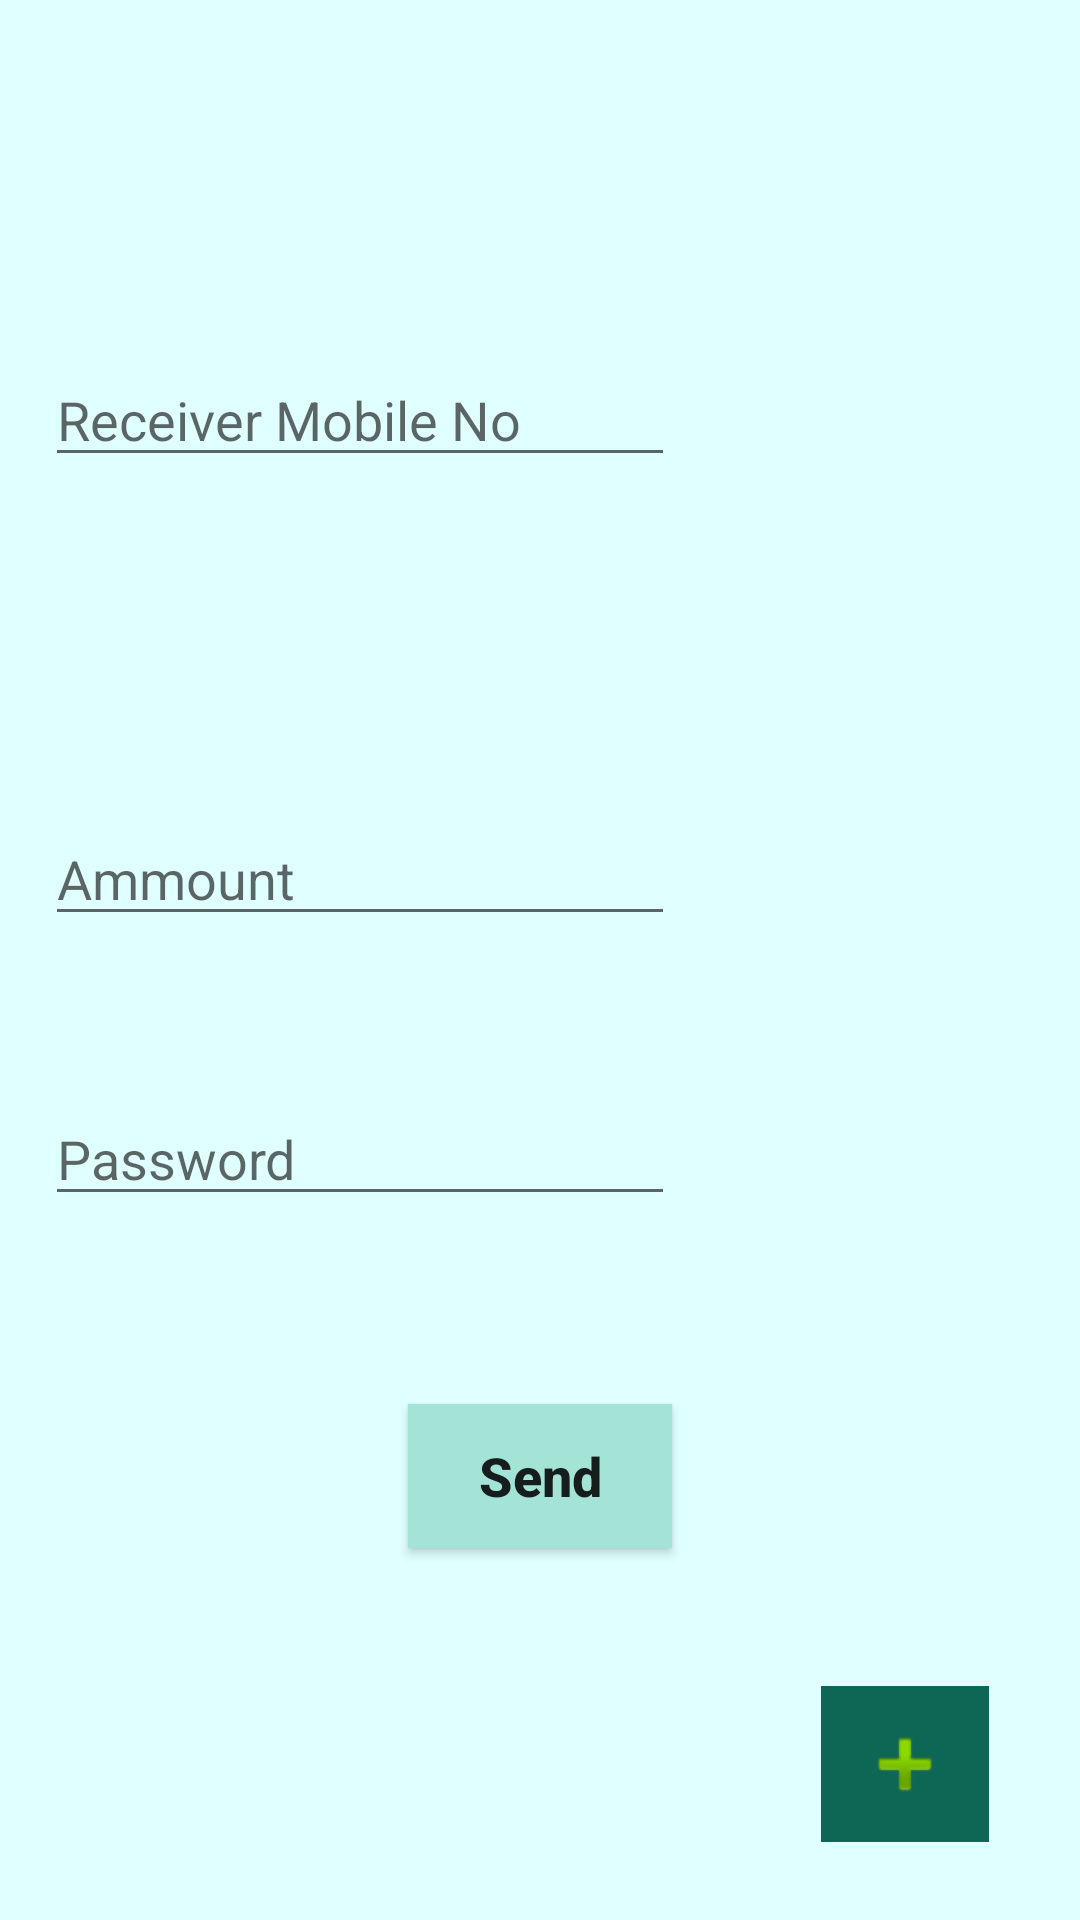

Icons on this 1080*1920 Android screen, each with its box as (x1, y1, x2, y2):
add: (821, 1686, 989, 1842)
